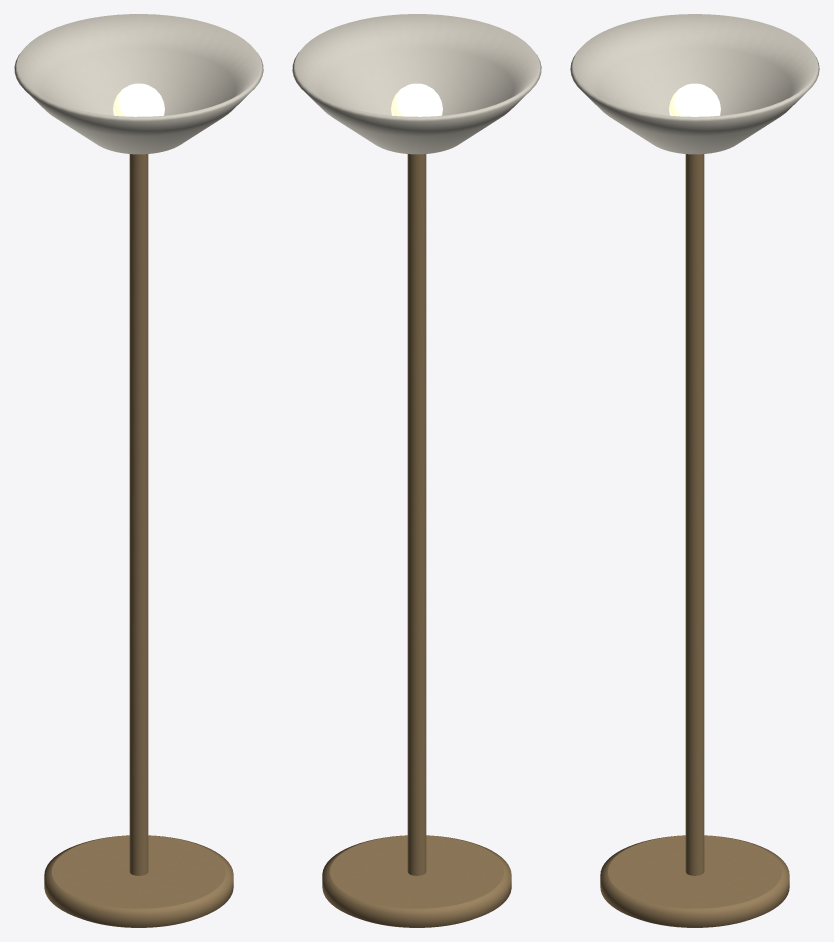
The model's file is chess-torch-lamp.glb.
3 renders of one model, left to right at view 1: azimuth 30°, elevation 25°; view 2: azimuth 150°, elevation 25°; view 3: azimuth 270°, elevation 25°, orthographic.
Parts seen in each view (by area): view 1: Torchiere | upward bowl, Torchiere | long column, Lamp | weighted circular base, Diffuser | glass globe; view 2: Torchiere | upward bowl, Torchiere | long column, Lamp | weighted circular base, Diffuser | glass globe; view 3: Torchiere | upward bowl, Torchiere | long column, Lamp | weighted circular base, Diffuser | glass globe.
Part boxes in pixels (x1,y1,x2,y2): Torchiere | upward bowl: (14, 14, 263, 154); Torchiere | long column: (129, 154, 148, 875); Lamp | weighted circular base: (44, 835, 233, 927); Diffuser | glass globe: (113, 83, 164, 116); Torchiere | upward bowl: (292, 14, 541, 154); Torchiere | long column: (407, 154, 426, 875); Lamp | weighted circular base: (322, 835, 511, 927); Diffuser | glass globe: (391, 83, 442, 116); Torchiere | upward bowl: (570, 14, 819, 154); Torchiere | long column: (685, 154, 704, 875); Lamp | weighted circular base: (600, 835, 789, 927); Diffuser | glass globe: (669, 83, 720, 116).
Bounding box in the file's own units: 0.432 × 1.58 × 0.432.
Materials: 3 (3 with a texture image).
